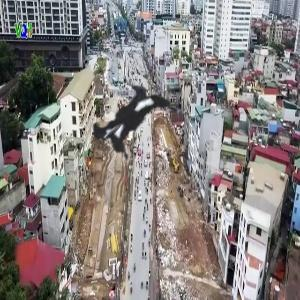drone: (9, 1, 251, 243)
